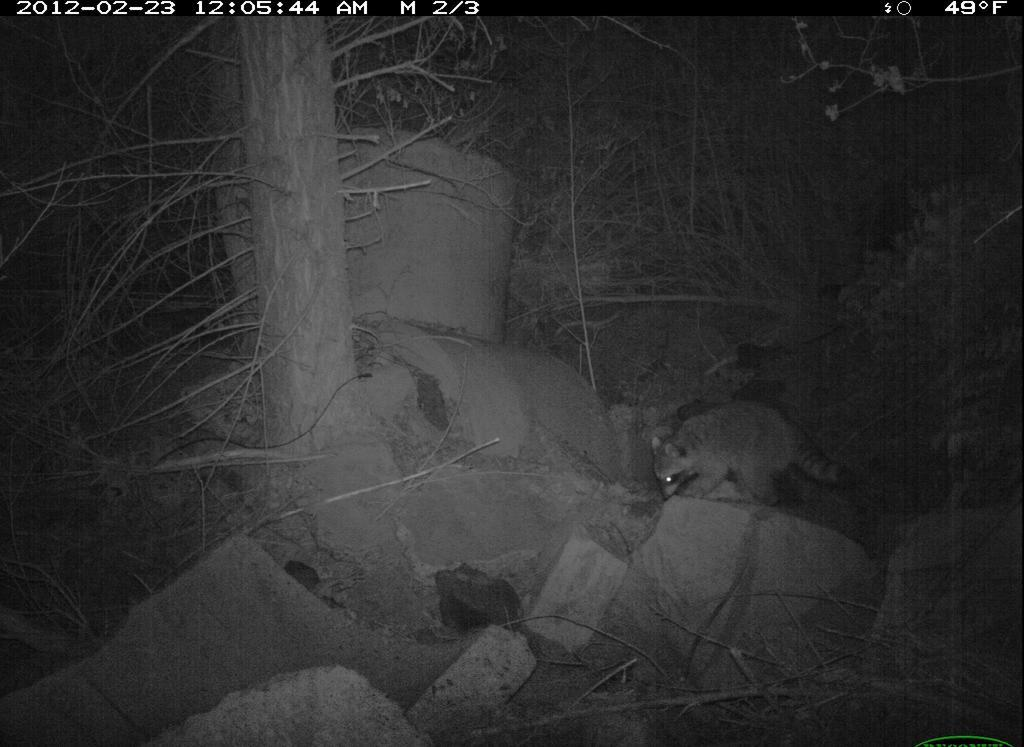raccoon: (639, 393, 862, 523)
